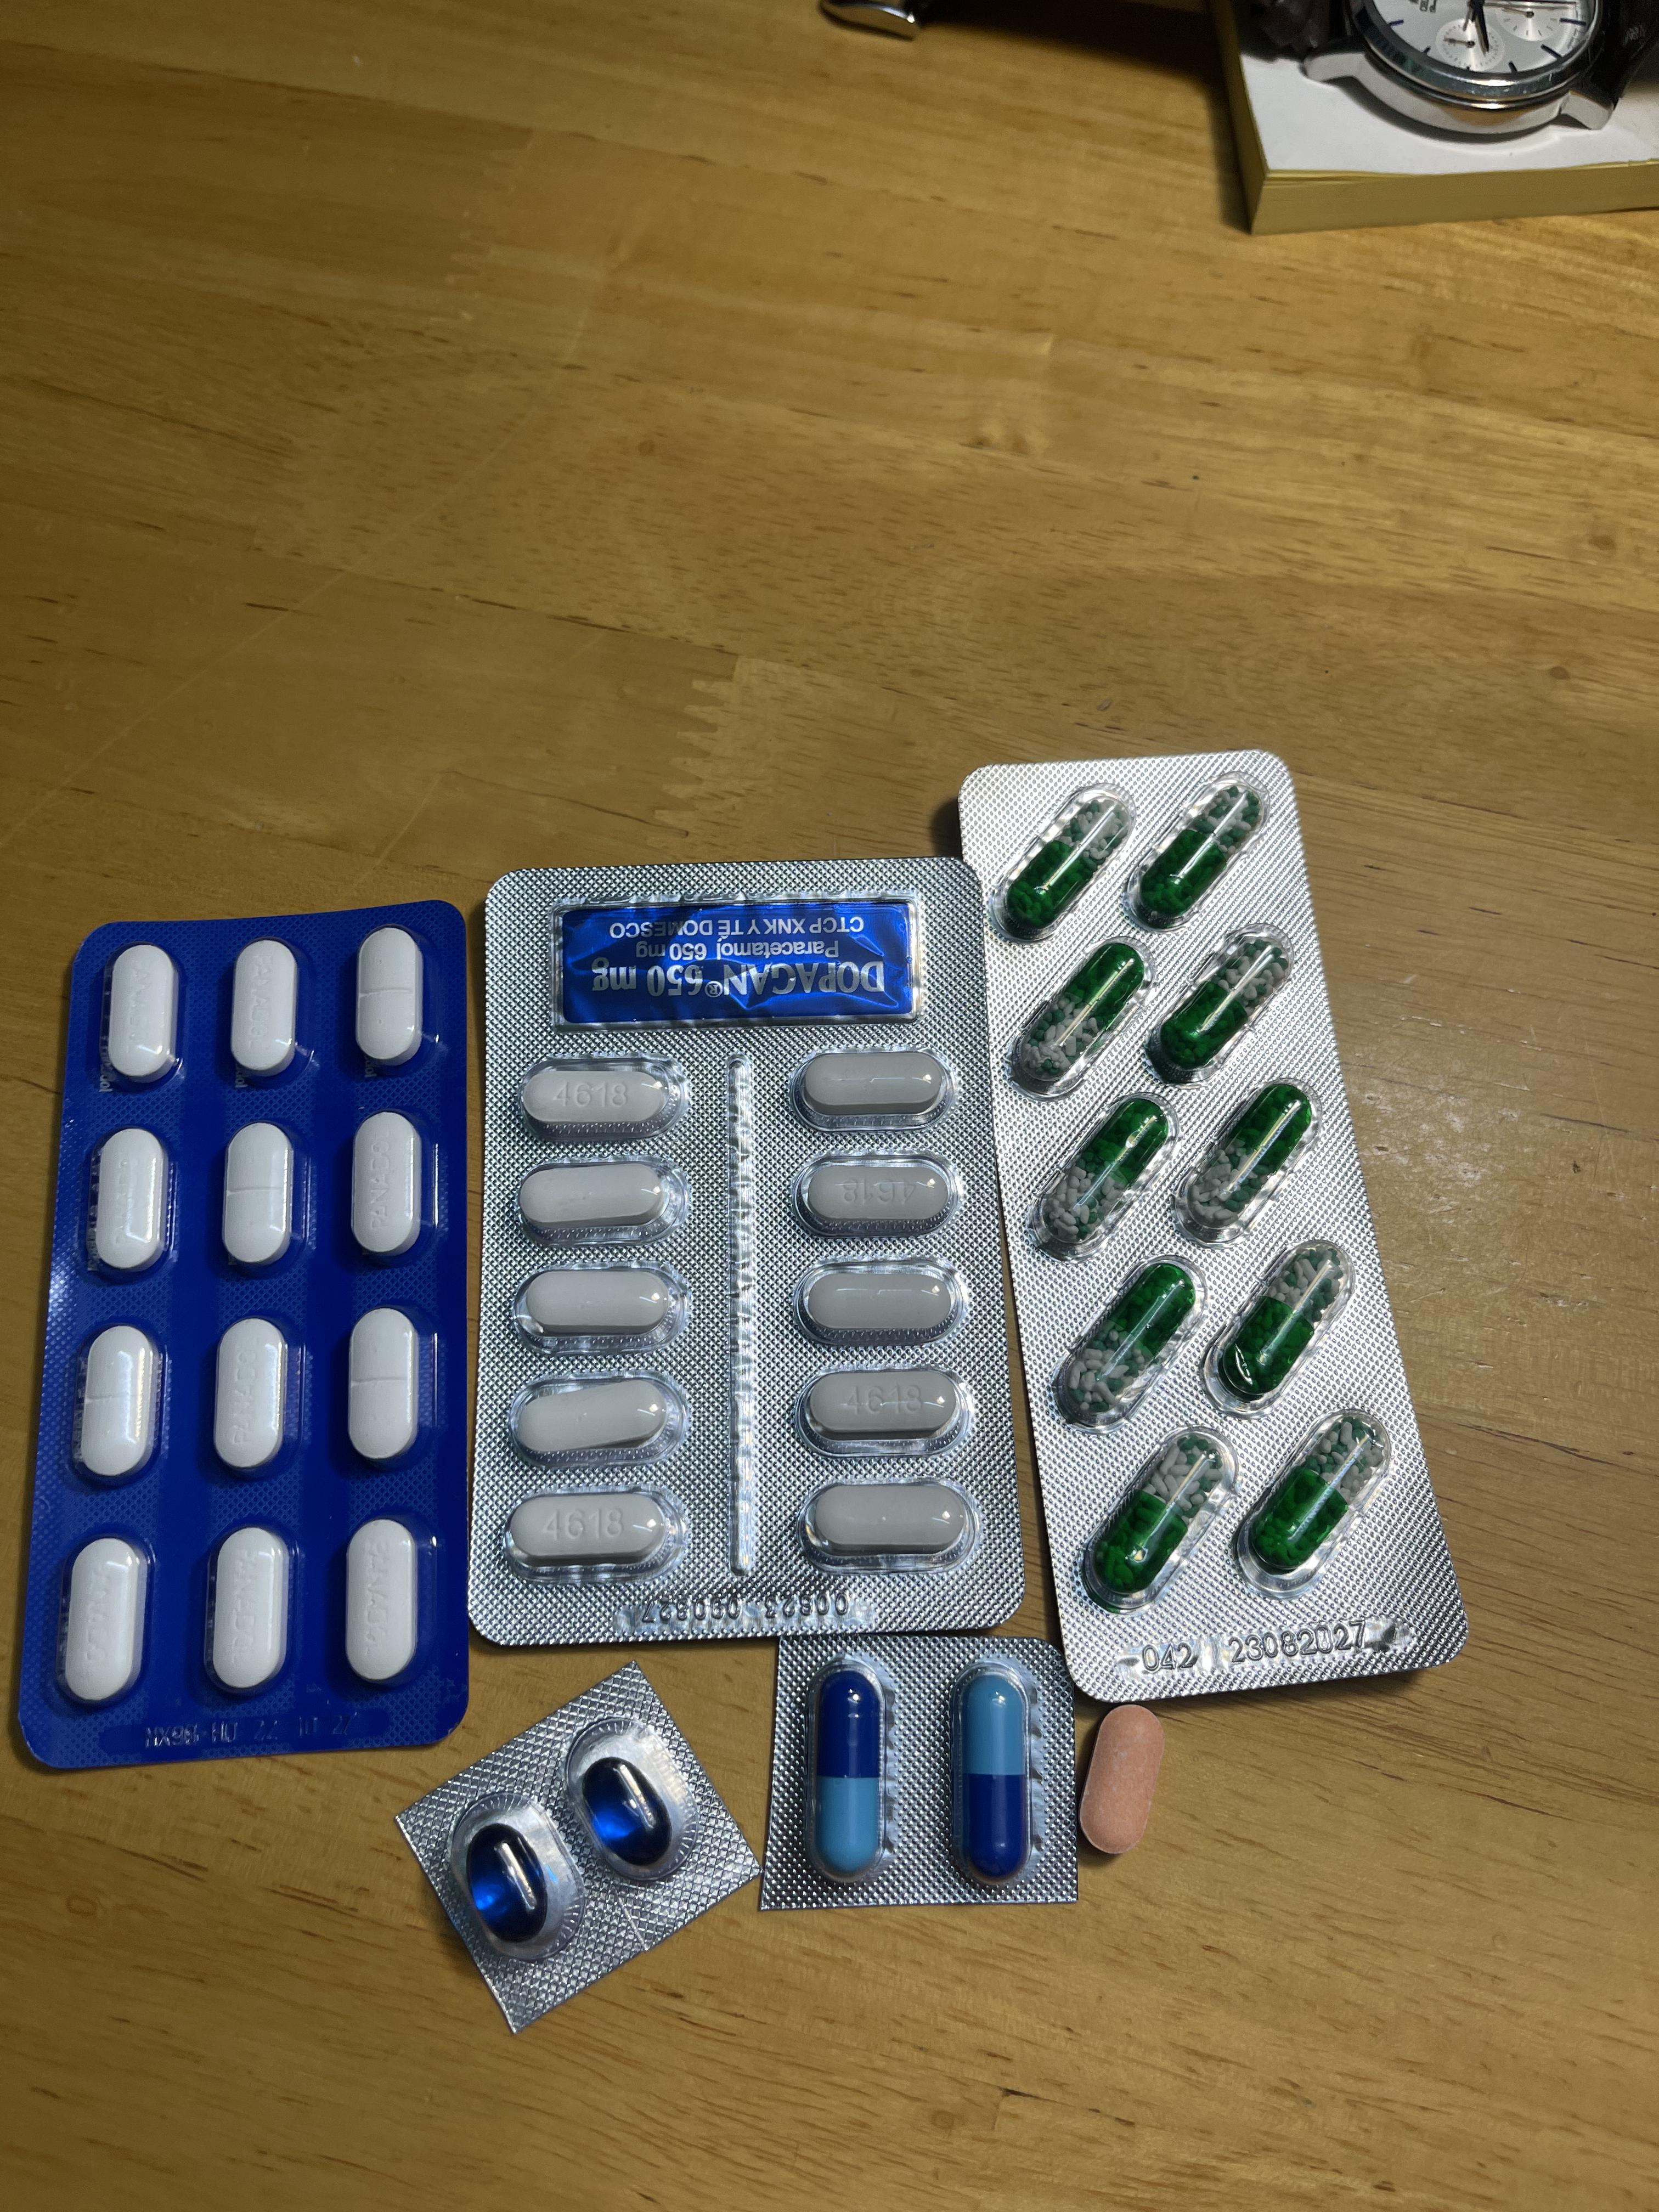Lincomyxin_500mg: (582, 1757, 671, 1860), (469, 1825, 549, 1939)
Loratadine_10mg: (1079, 1705, 1164, 1855)
Paracetamol_350mg: (61, 1534, 148, 1707), (207, 1524, 293, 1696), (75, 1324, 164, 1484), (343, 1517, 422, 1686), (211, 1317, 293, 1475), (347, 1306, 423, 1467), (91, 1129, 171, 1278), (220, 1120, 298, 1271), (350, 1111, 425, 1259), (105, 944, 179, 1083), (228, 939, 300, 1080), (354, 927, 423, 1066)
Paracetamol_500mg: (502, 1487, 683, 1576), (505, 1371, 687, 1460), (800, 1477, 976, 1566), (796, 1366, 972, 1451), (795, 1258, 967, 1341), (795, 1151, 962, 1233), (516, 1055, 687, 1136), (511, 1264, 687, 1341), (791, 1045, 953, 1125), (514, 1158, 681, 1235)
Paracetamol_650mg: (1209, 1237, 1356, 1406), (1147, 927, 1295, 1083), (1006, 939, 1152, 1097), (1180, 1078, 1321, 1240), (1060, 1258, 1199, 1421), (1248, 1414, 1385, 1576), (1037, 1094, 1173, 1252), (1096, 1433, 1229, 1594), (995, 784, 1131, 939), (1131, 775, 1267, 928)
pill: (957, 1665, 1032, 1881), (812, 1662, 885, 1876)
